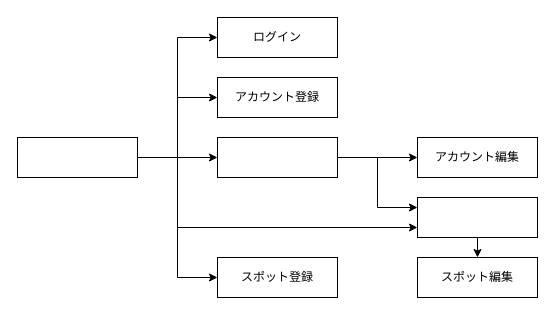
Some shapes in this 555 by 315 pixel diagram are drawn without their labels. Each missing label, with the centre of its shape:
"スポット詳細" goes at point 477,217.
"トップページ" goes at point 77,157.
"マイページ" goes at point 277,157.
